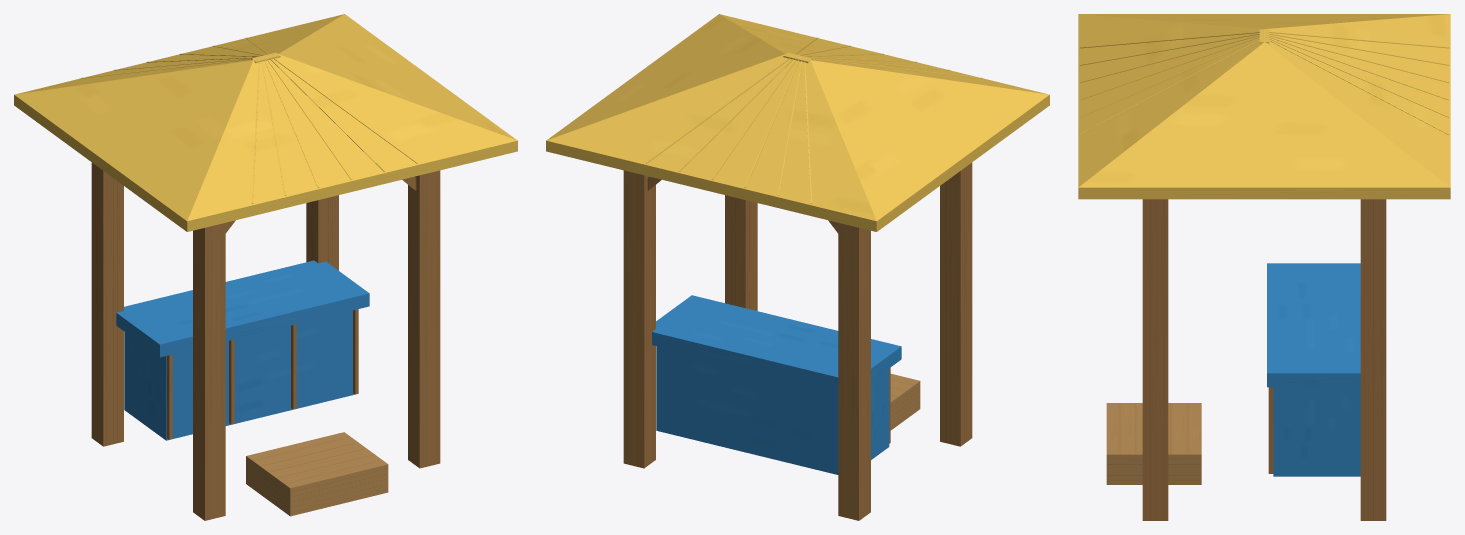
The model's file is kiosk.glb.
The picture shows the model from 3 angles, left to right: view 1: azimuth 30°, elevation 25°; view 2: azimuth 150°, elevation 25°; view 3: azimuth 270°, elevation 25°; orthographic projection. The views are drawn at different scales.
Visible parts, largest first — view 1: kiosk; view 2: kiosk; view 3: kiosk.
Boxes of the visible parts, x1,y1,x2,y2 form: kiosk: (14,14,517,520); kiosk: (546,14,1049,520); kiosk: (1078,14,1450,520).
Bounding box in the file's own units: 3.2 × 3.64 × 2.9.
Materials: 4 (4 with a texture image).
